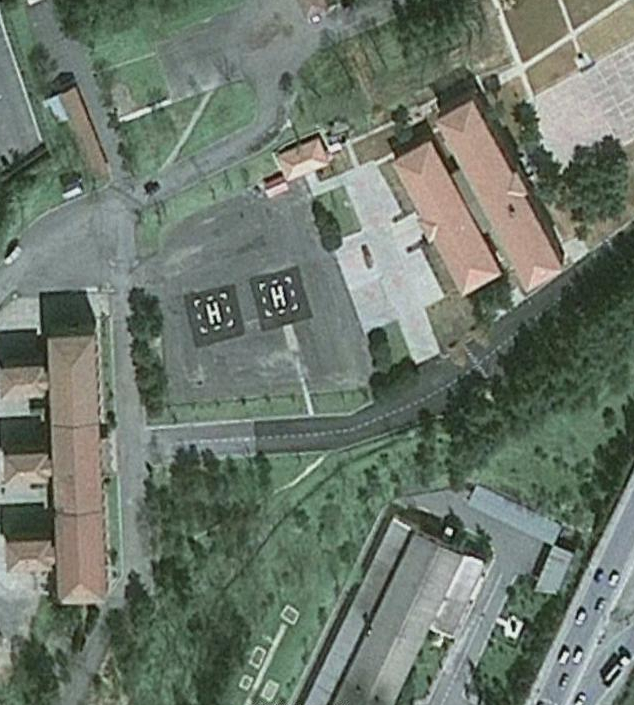heliport: (266, 282, 289, 310), (201, 300, 224, 325)
